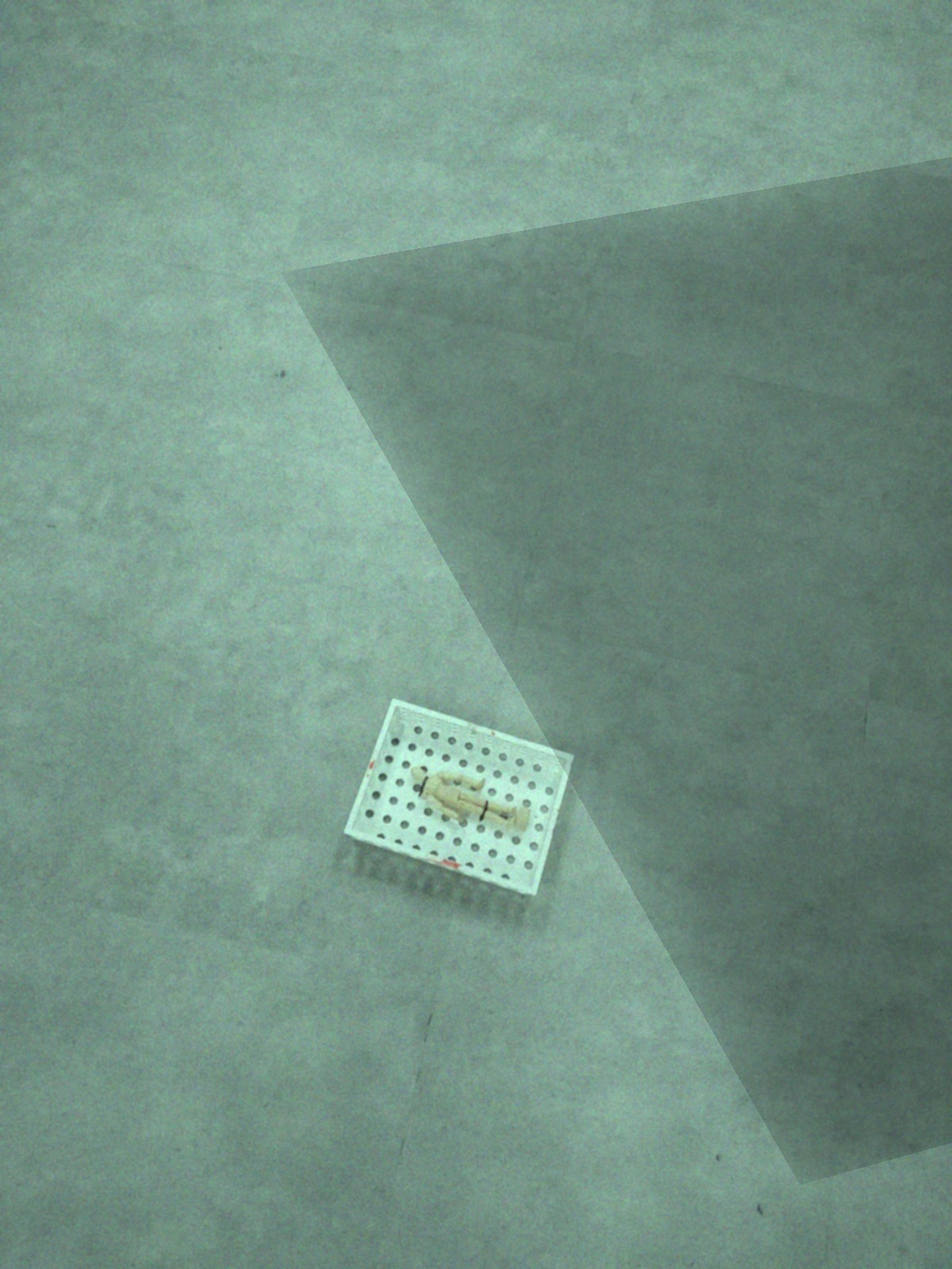basket: (340, 695, 574, 899)
mannequin: (407, 762, 532, 836)
